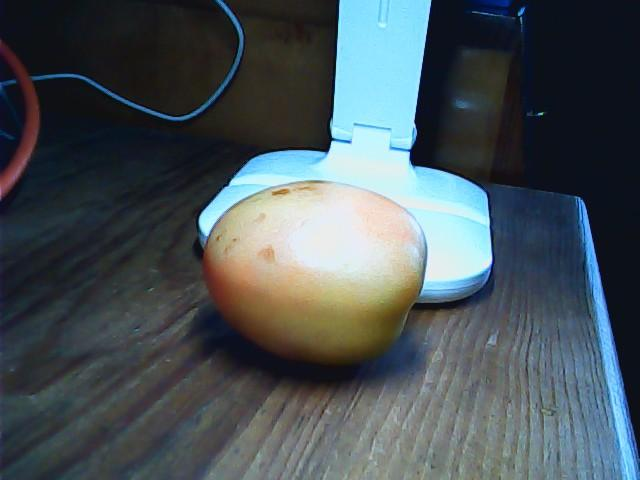verde: (196, 177, 431, 370)
